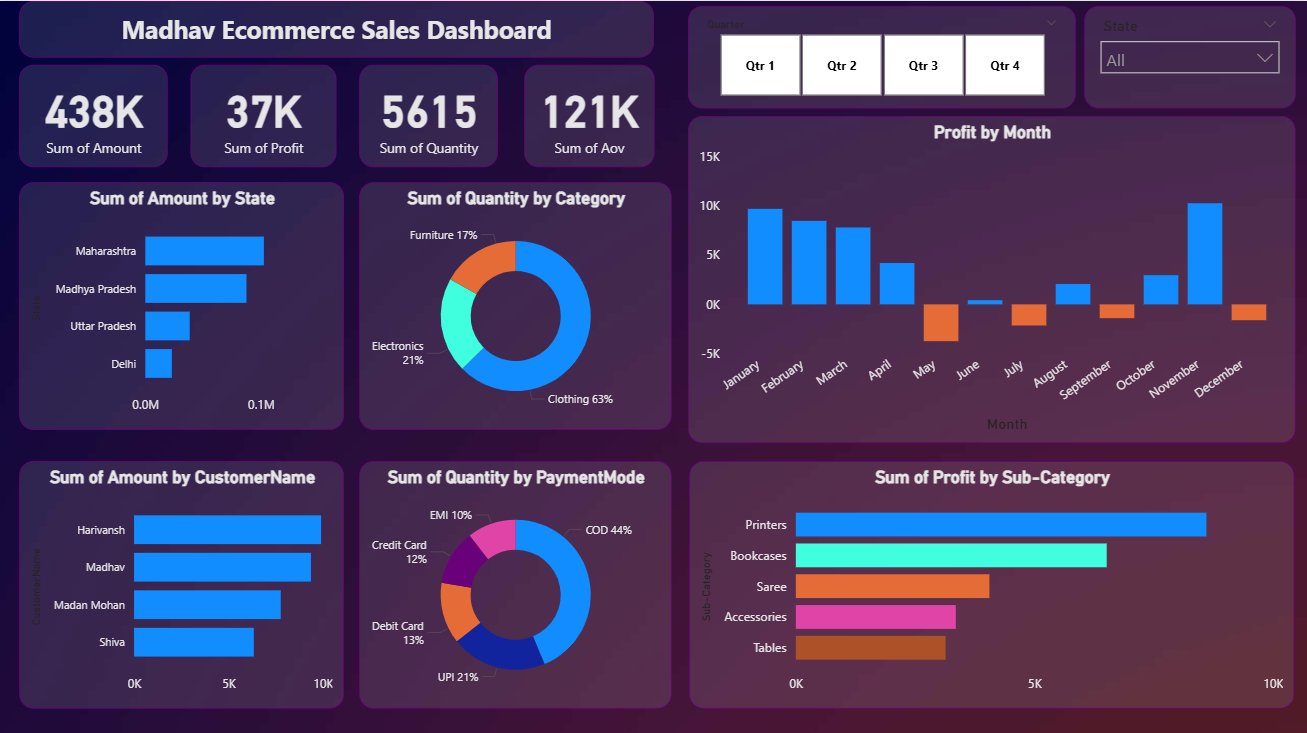

What the dashboard file says about the page in this screenshot:
{"tool":"powerbi","page":{"name":"Page 1","canvas":[1280,720],"ordinal":0},"visuals":[{"type":"textbox","box":[20.7,0,619.5,54.9],"z":0},{"type":"columnChart","title":" Profit by Month","fields":{"Y":["Sum(Details.Profit)"],"Category":["Orders.Order Date.Variation.Date Hierarchy.Month"]},"box":[673.2,112.2,592.7,319.5],"z":1000},{"type":"barChart","fields":{"Category":["Details.Sub-Category"],"Y":["Sum(Details.Profit)"]},"box":[674.4,448.8,590.2,241.5],"z":1001},{"type":"donutChart","fields":{"Category":["Details.Category"],"Y":["Sum(Details.Quantity)"]},"box":[352.4,176.8,304.9,241.5],"z":1002},{"type":"donutChart","fields":{"Y":["Sum(Details.Quantity)"],"Category":["Details.PaymentMode"]},"box":[352.4,448.8,304.9,241.5],"z":1003},{"type":"card","fields":{"Values":["Sum(Details.Amount)"]},"box":[20.7,62.2,145.1,100],"z":1004},{"type":"card","fields":{"Values":["Sum(Details.Profit)"]},"box":[187.8,62.2,142.7,100],"z":1005},{"type":"card","fields":{"Values":["Sum(Details.Quantity)"]},"box":[352.4,62.2,135.4,100],"z":1006},{"type":"card","fields":{"Values":["Sum(Details.Aov)"]},"box":[513.4,62.2,126.8,100],"z":1007},{"type":"barChart","fields":{"Category":["Orders.State"],"Y":["Sum(Details.Amount)"]},"box":[20.7,176.8,317.1,241.5],"z":1008},{"type":"barChart","fields":{"Y":["Sum(Details.Amount)"],"Category":["Orders.CustomerName"]},"box":[20.7,448.8,317.1,241.5],"z":1009},{"type":"slicer","fields":{"Values":["Orders.Order Date.Variation.Date Hierarchy.Quarter"]},"box":[673.2,4.9,378,100],"z":1011},{"type":"slicer","fields":{"Values":["Orders.State"]},"box":[1059.8,4.9,206.1,100],"z":1012}]}

Visuals, with their boxes in screenshot pixels (x1, y1, x2, y2), scaled from the page's 1280x720 canvas onto the 1307x733 screenshot:
textbox: pyautogui.locateOnScreen(21, 0, 654, 56)
" Profit by Month" columnChart: pyautogui.locateOnScreen(687, 114, 1293, 439)
barChart - Details.Sub-Category x Sum(Details.Profit): pyautogui.locateOnScreen(689, 457, 1291, 703)
donutChart - Details.Category x Sum(Details.Quantity): pyautogui.locateOnScreen(360, 180, 671, 426)
donutChart - Sum(Details.Quantity) x Details.PaymentMode: pyautogui.locateOnScreen(360, 457, 671, 703)
card - Sum(Details.Amount): pyautogui.locateOnScreen(21, 63, 169, 165)
card - Sum(Details.Profit): pyautogui.locateOnScreen(192, 63, 337, 165)
card - Sum(Details.Quantity): pyautogui.locateOnScreen(360, 63, 498, 165)
card - Sum(Details.Aov): pyautogui.locateOnScreen(524, 63, 654, 165)
barChart - Orders.State x Sum(Details.Amount): pyautogui.locateOnScreen(21, 180, 345, 426)
barChart - Sum(Details.Amount) x Orders.CustomerName: pyautogui.locateOnScreen(21, 457, 345, 703)
slicer - Orders.Order Date.Variation.Date Hierarchy.Quarter: pyautogui.locateOnScreen(687, 5, 1073, 107)
slicer - Orders.State: pyautogui.locateOnScreen(1082, 5, 1293, 107)
